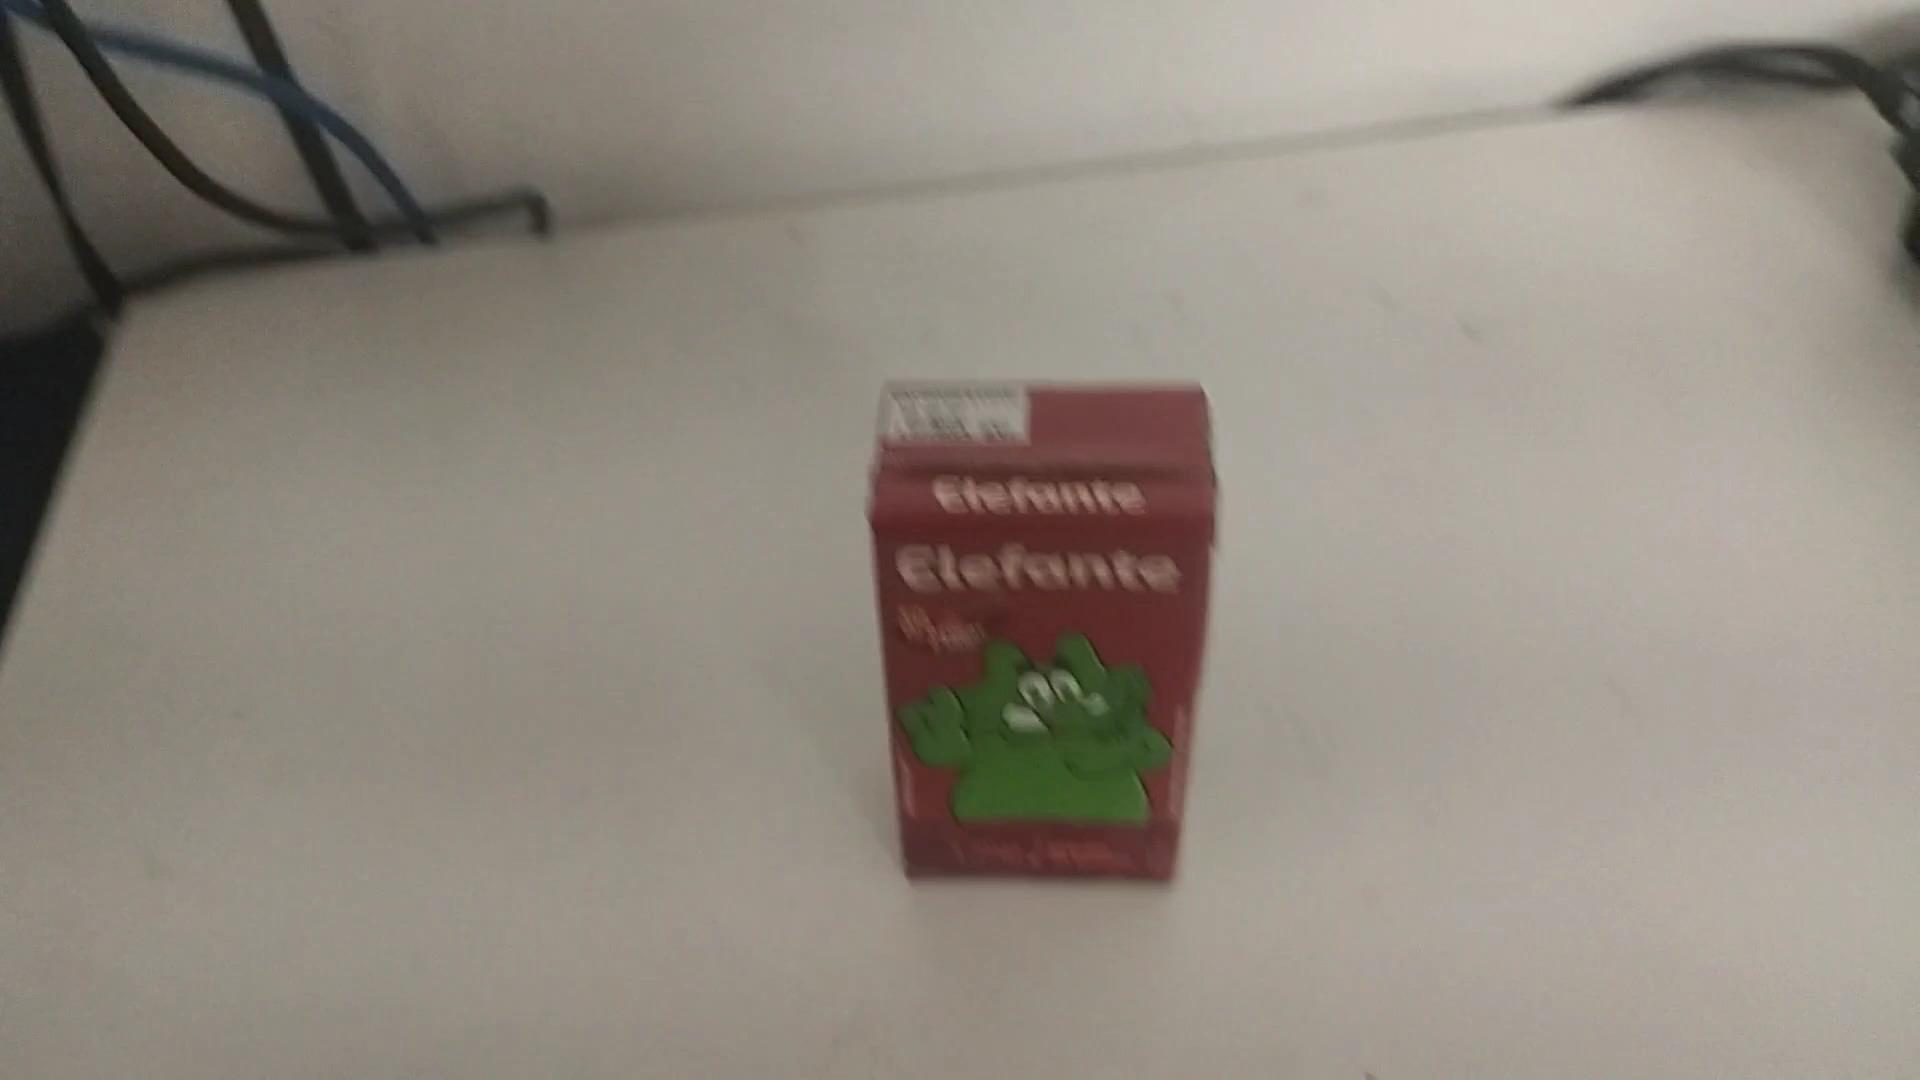tomate: (856, 368, 1225, 885)
